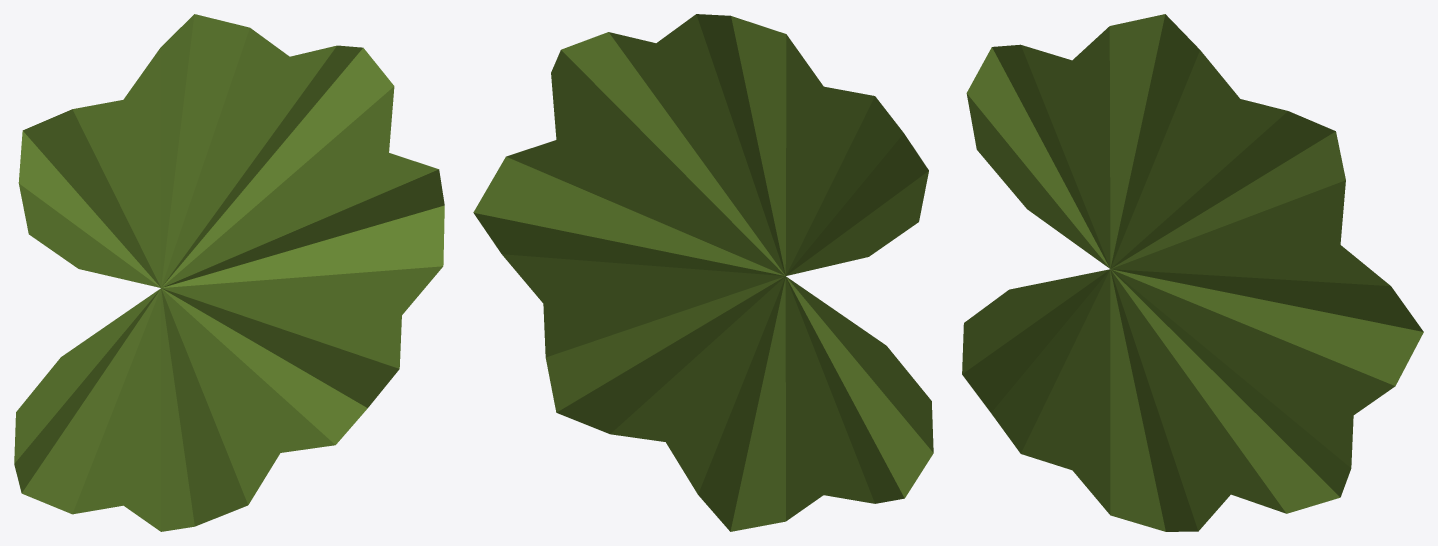
The model's file is CheeseweedLeaf.obj.
3 renders of one model, left to right at view 1: azimuth 30°, elevation 25°; view 2: azimuth 150°, elevation 25°; view 3: azimuth 330°, elevation 25°, orthographic.
Visible parts, largest first — view 1: leaf; view 2: leaf; view 3: leaf.
Part boxes in pixels (x1,y1,x2,y2): leaf: [14, 14, 444, 531]; leaf: [473, 14, 933, 531]; leaf: [962, 14, 1423, 531].
Bounding box in the file's own units: 0.8902 × 0.9827 × 0.0466.
